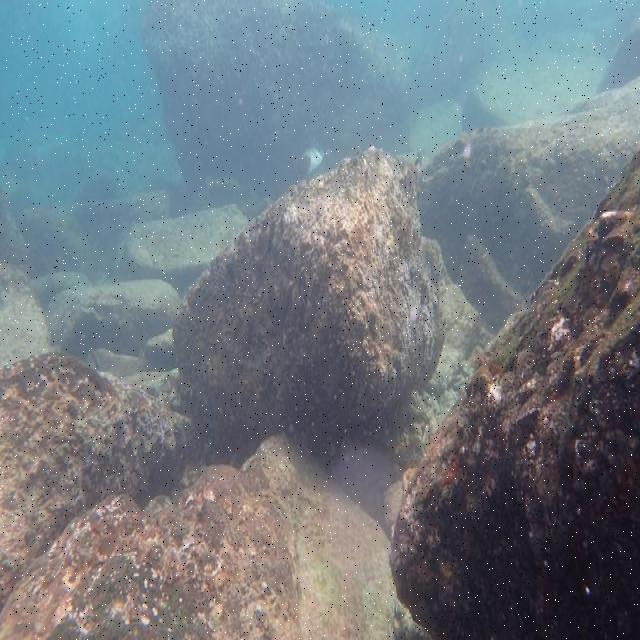sea-floor: (388, 150, 639, 638), (1, 432, 436, 639), (172, 146, 446, 470), (416, 77, 639, 332), (142, 1, 412, 196), (0, 350, 194, 612), (117, 204, 250, 296), (47, 279, 179, 357)
